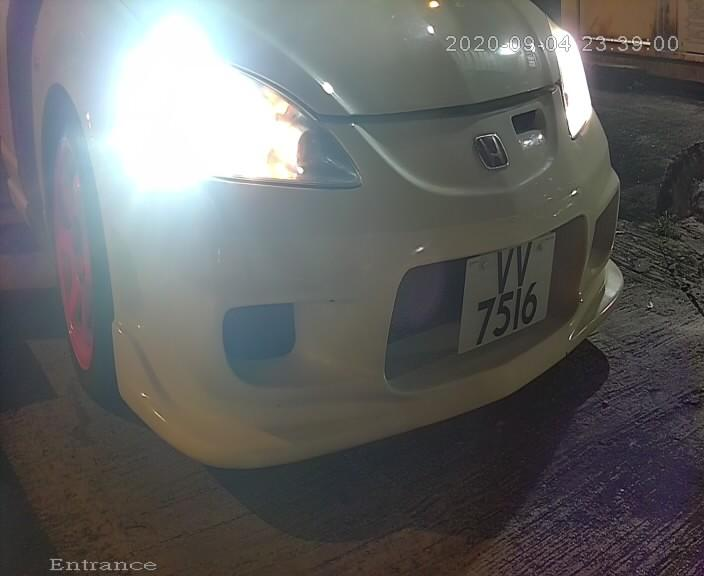License Plate: (456, 214, 557, 371)
